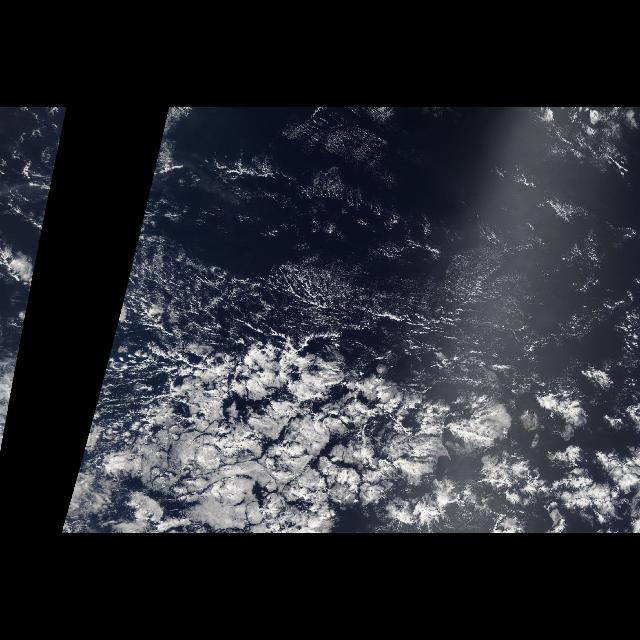Flower: (348, 346, 640, 532)
Sugar: (127, 108, 639, 354)
